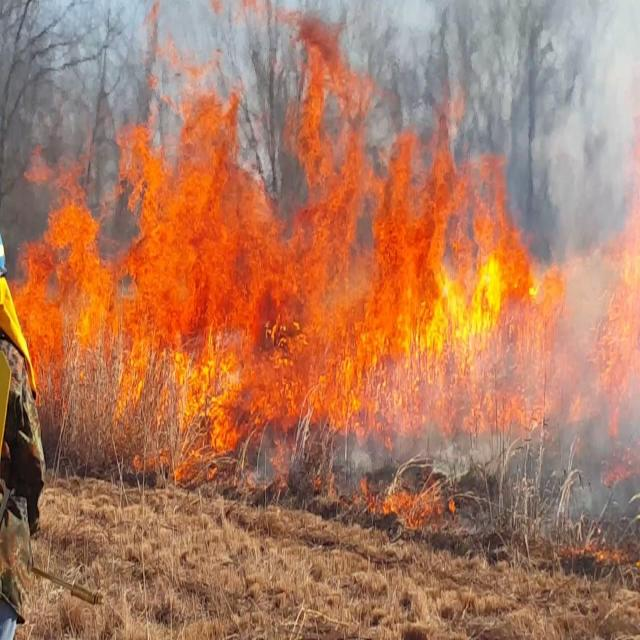fire: (172, 70, 277, 262), (280, 191, 376, 394), (379, 99, 451, 345), (133, 282, 268, 376), (285, 17, 362, 179), (459, 141, 518, 350), (33, 184, 113, 333), (595, 207, 633, 413), (128, 113, 168, 266)
